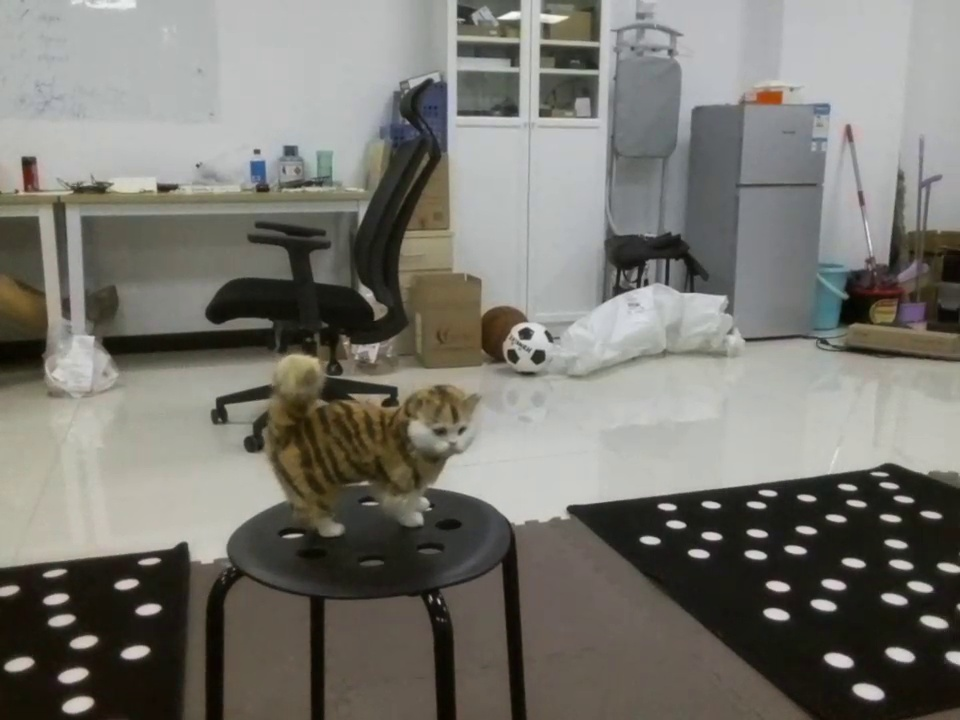cat: (231, 352, 499, 564)
